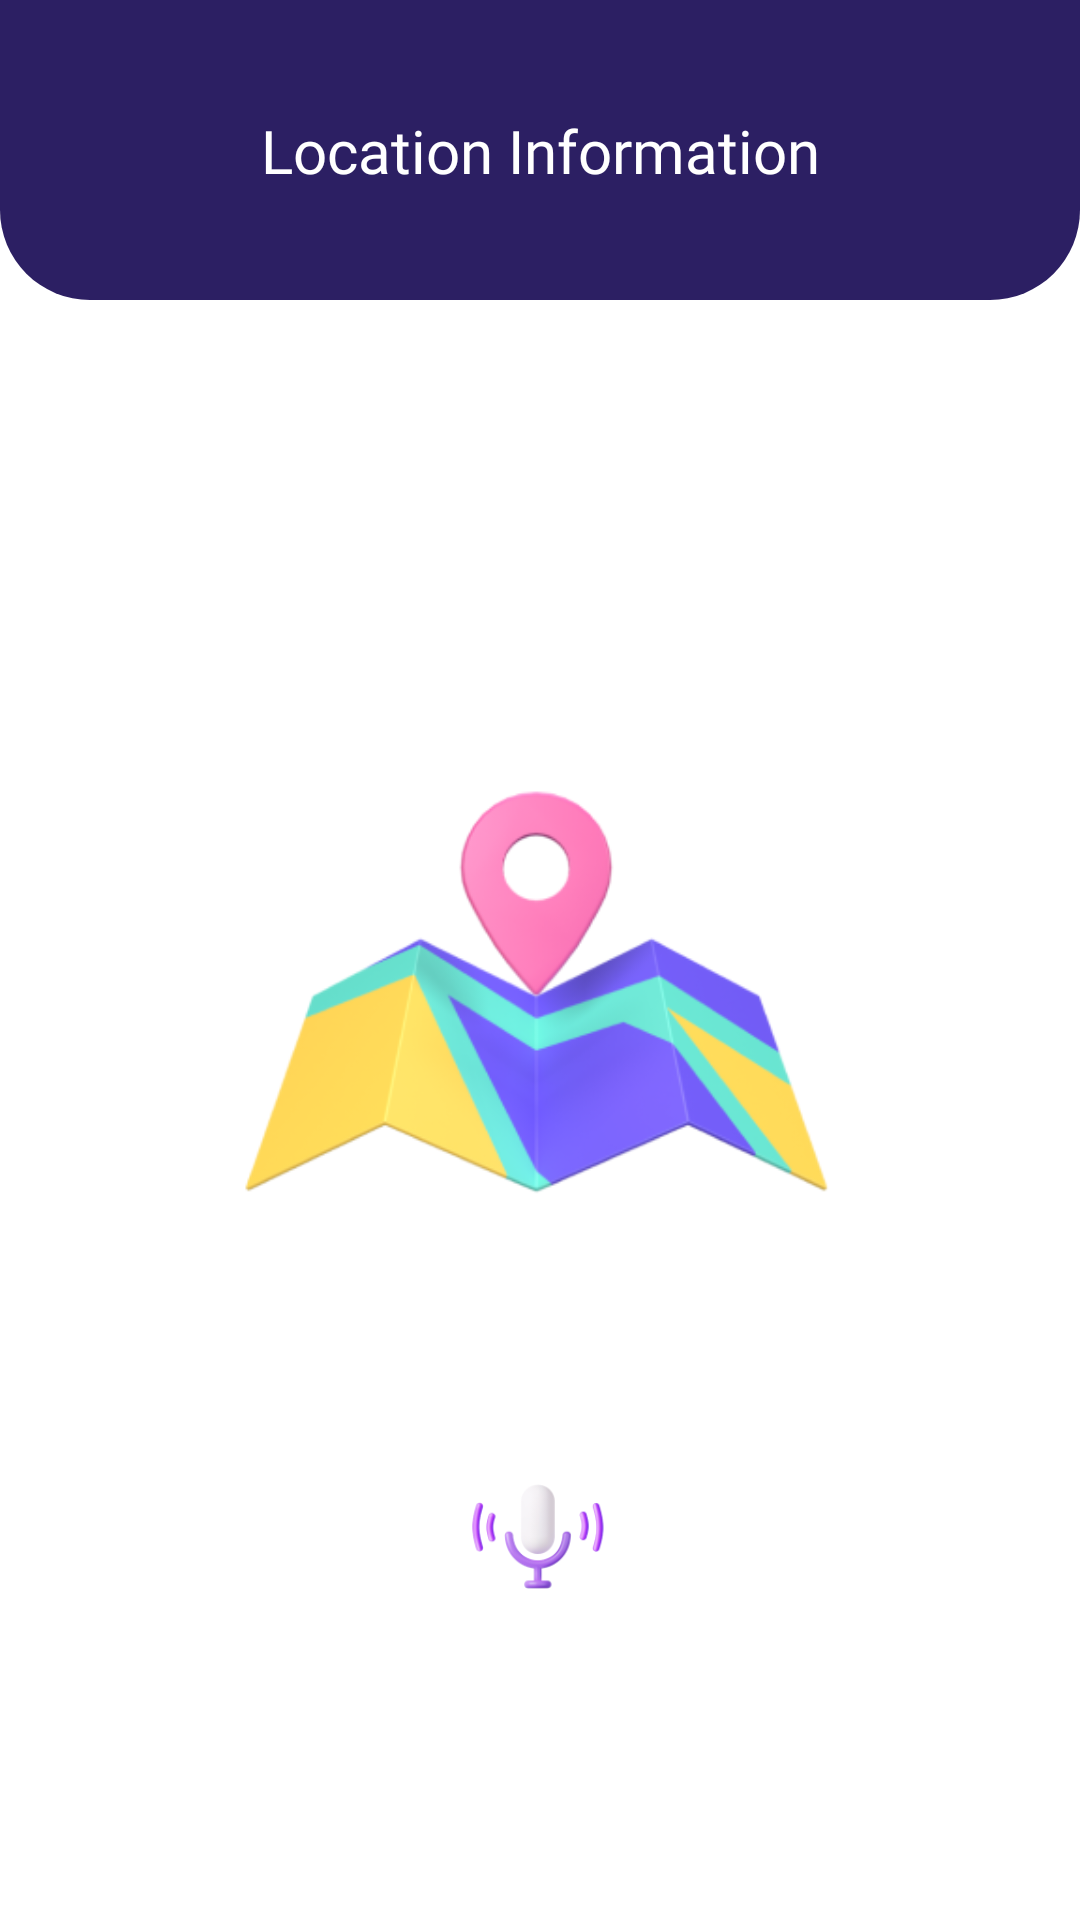

Screen size 1080px x 1920px. Icon name, then its box in pixels as [left=x1, top=y1, right=x2, bottom=y2]:
audio microphone: [left=472, top=1486, right=604, bottom=1589]
